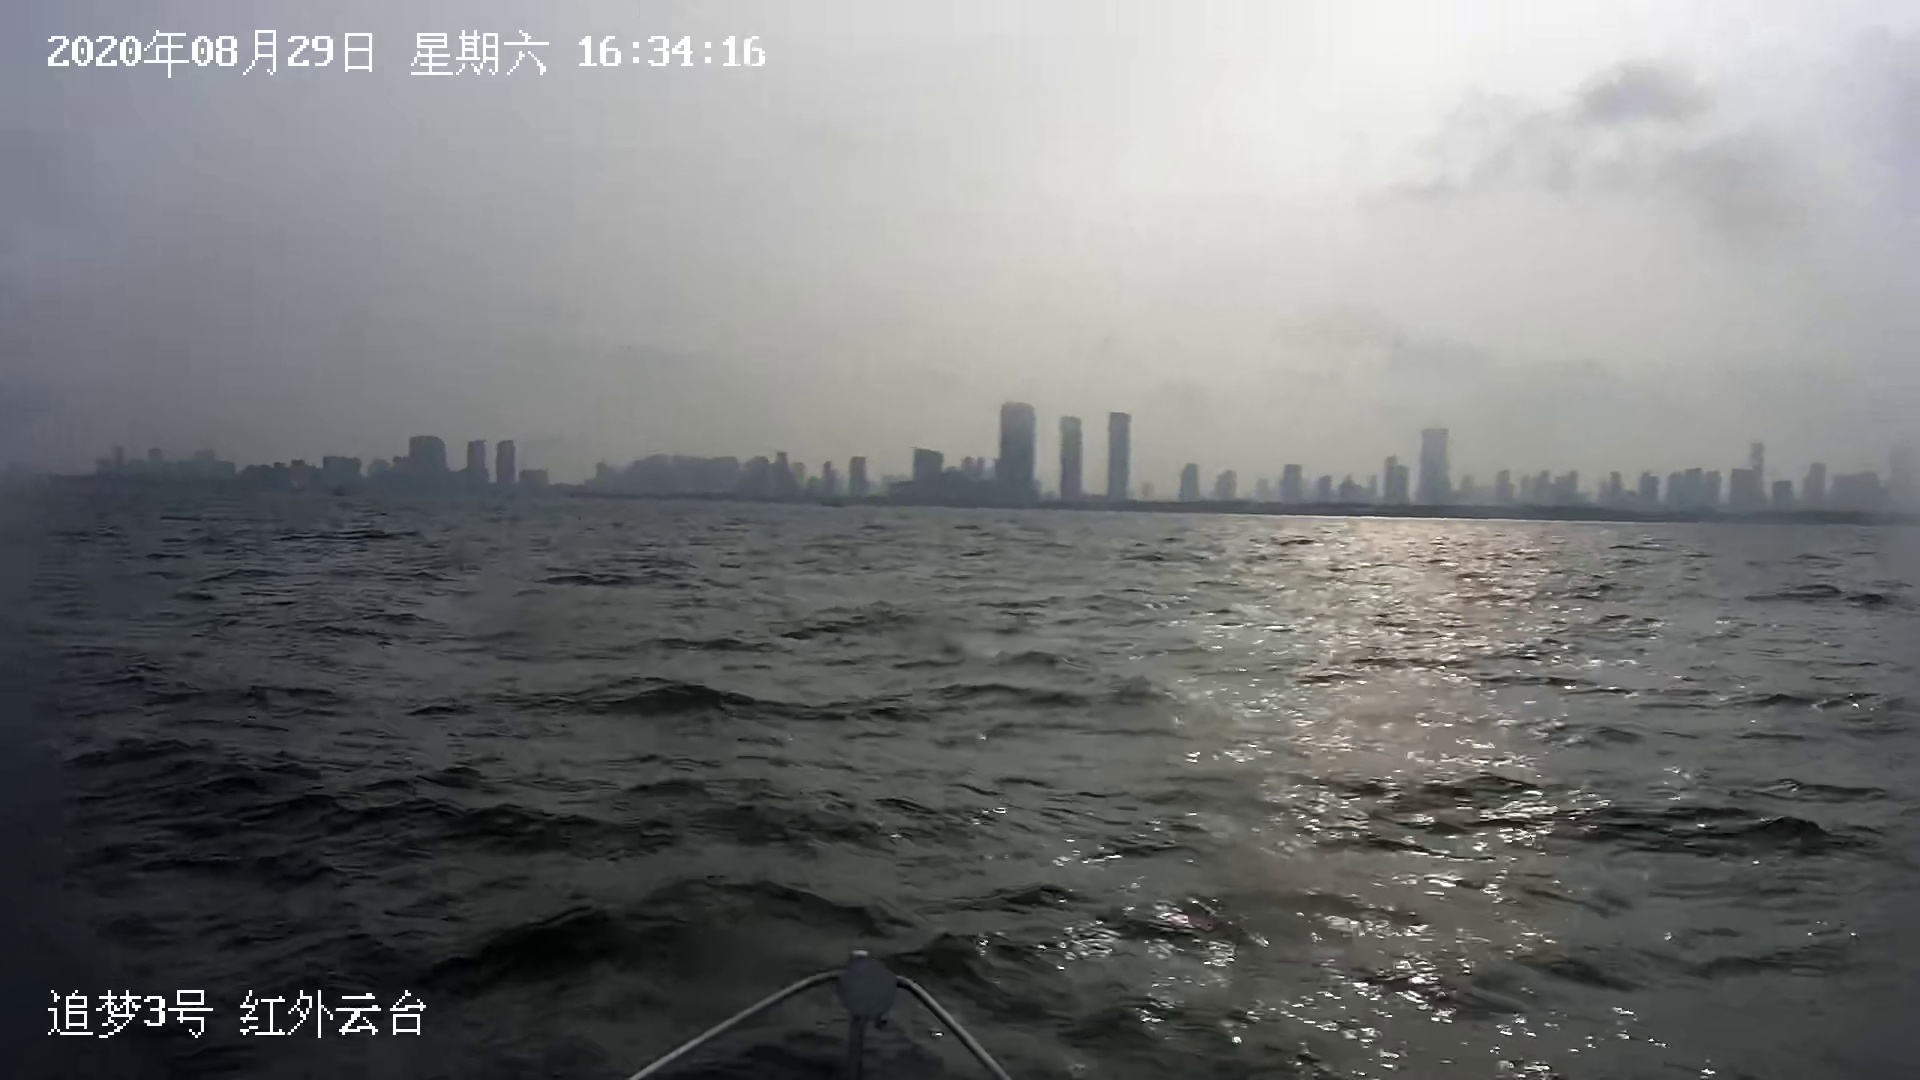coast: (17, 396, 1920, 535)
